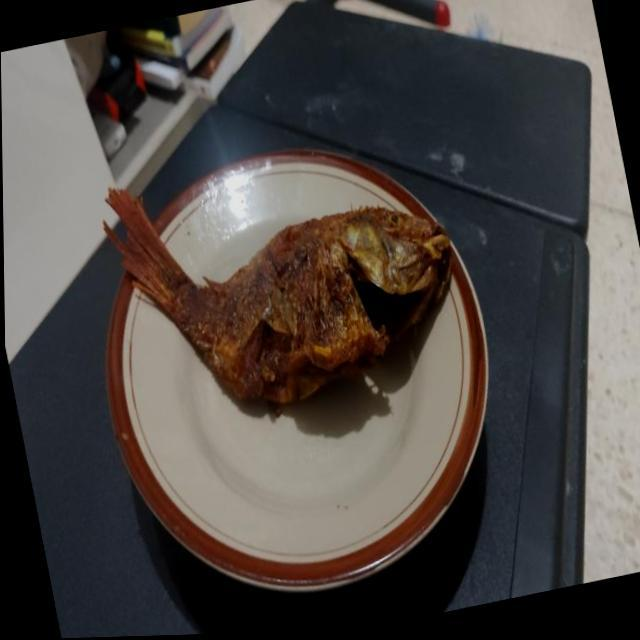ikan_mujair: (105, 190, 451, 403)
